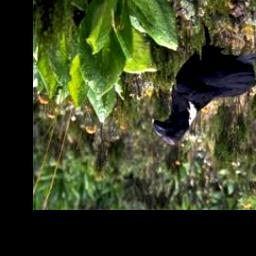Crow: (152, 21, 256, 147)
